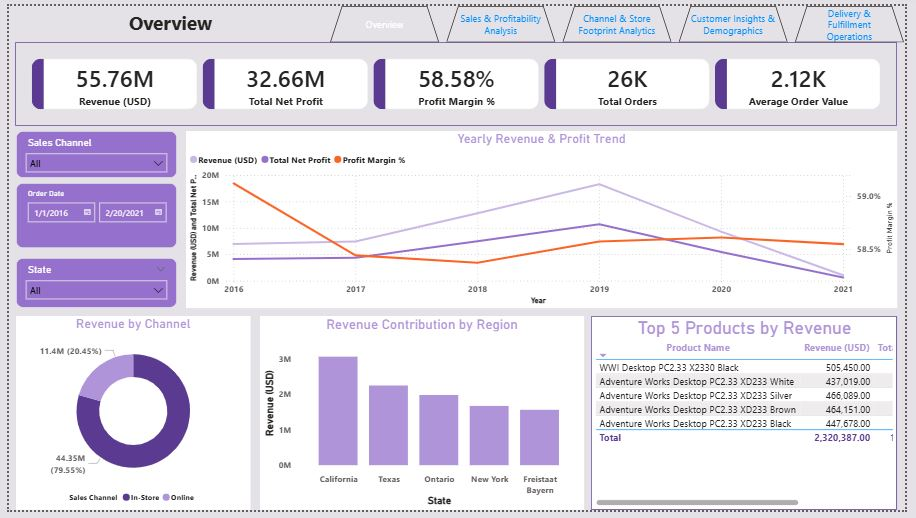

What the dashboard file says about the page in this screenshot:
{"tool":"powerbi","page":{"name":" Overview","canvas":[1280,720],"ordinal":0},"visuals":[{"type":"cardVisual","fields":{"Data":["Customers.Revenue (USD)","Customers.Total Net Profit","Customers.Profit Margin %","Customers.Total Orders","Customers.AOV"]},"box":[8,52,1260,120],"z":0},{"type":"slicer","fields":{"Values":["Sales.Order Date"]},"box":[10,253,230,93],"z":1000},{"type":"slicer","fields":{"Values":["Customers.State"]},"box":[10,360,230,71.4],"z":2000},{"type":"slicer","fields":{"Values":["Sales.Sales Channel"]},"box":[10,178.6,230,67.1],"z":3000},{"type":"lineChart","title":"Yearly Revenue & Profit Trend","fields":{"Y":["Customers.Revenue (USD)","Customers.Total Net Profit"],"Category":["Date.Year"],"Y2":["Customers.Profit Margin %"]},"box":[252.9,178.6,1015.7,252.9],"z":4000},{"type":"clusteredColumnChart","title":"Revenue Contribution by Region","fields":{"Category":["Customers.State"],"Y":["Customers.Revenue (USD)"]},"box":[358.6,442.9,462.9,277.1],"z":5000},{"type":"donutChart","title":"Revenue by Channel","fields":{"Category":["Sales.Sales Channel"],"Y":["Customers.Revenue (USD)"]},"box":[10,443,335,277],"z":6000},{"type":"tableEx","title":"Top 5 Products by Revenue","fields":{"Values":["Products.Product Name","Customers.Revenue (USD)","Customers.Total Net Profit","Sum(Sales.Quantity)"]},"box":[831.7,443.3,436.7,276.7],"z":7000},{"type":"textbox","box":[10,0,448.6,51.4],"z":8000},{"type":"pageNavigator","box":[458,0,822,52],"z":14000}]}

Visuals, with their boxes in screenshot pixels (x1, y1, x2, y2), scaled from the page's 1280x720 canvas onto the 916x518 screenshot:
cardVisual - Customers.Revenue (USD) x Customers.Total Net Profit: [x1=6, y1=37, x2=907, y2=124]
slicer - Sales.Order Date: [x1=7, y1=182, x2=172, y2=249]
slicer - Customers.State: [x1=7, y1=259, x2=172, y2=310]
slicer - Sales.Sales Channel: [x1=7, y1=128, x2=172, y2=177]
"Yearly Revenue & Profit Trend" lineChart: [x1=181, y1=128, x2=908, y2=310]
"Revenue Contribution by Region" clusteredColumnChart: [x1=257, y1=319, x2=588, y2=517]
"Revenue by Channel" donutChart: [x1=7, y1=319, x2=247, y2=517]
"Top 5 Products by Revenue" tableEx: [x1=595, y1=319, x2=908, y2=517]
textbox: [x1=7, y1=0, x2=328, y2=37]
pageNavigator: [x1=328, y1=0, x2=915, y2=37]
